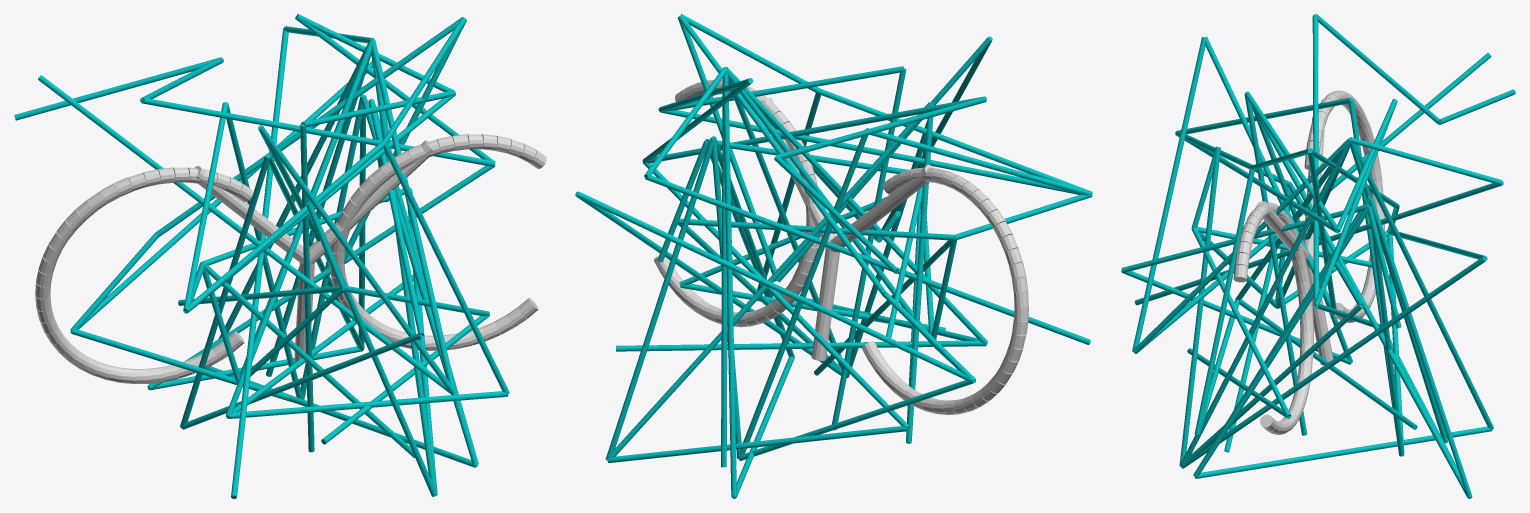
Rendered from cyc_wireframe_white.glb.
3 renders of one model, left to right at view 1: azimuth 30°, elevation 25°; view 2: azimuth 150°, elevation 25°; view 3: azimuth 270°, elevation 25°, orthographic. The views are drawn at different scales.
Parts seen in each view (by area): view 1: world; view 2: world; view 3: world.
Part boxes in pixels (x1,y1,x2,y2): world: [14, 14, 546, 498]; world: [575, 14, 1092, 498]; world: [1121, 14, 1515, 498].
Size of the model in its own units: 3.36 by 2.93 by 2.88.
